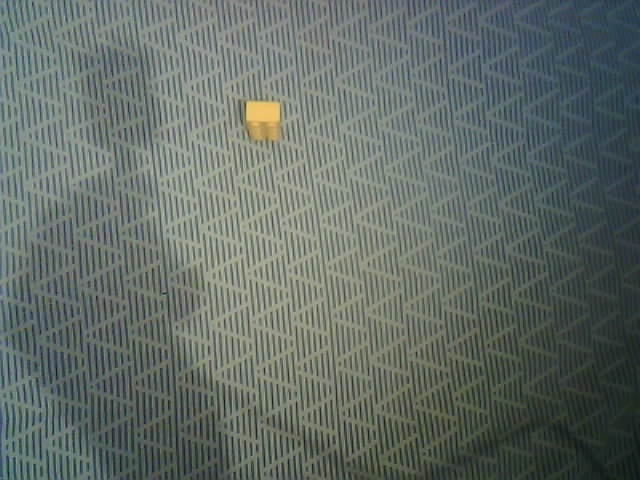lego: (243, 100, 281, 142)
